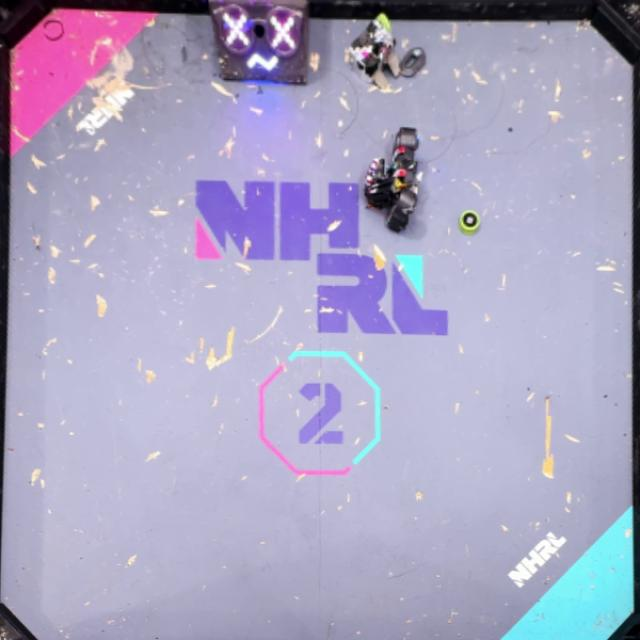housebot: (208, 0, 311, 85)
robot: (364, 126, 418, 234), (348, 14, 400, 89)
